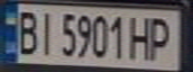0: (90, 11, 109, 58)
1: (109, 11, 130, 60)
5: (54, 9, 78, 57)
9: (72, 11, 93, 58)
B: (12, 7, 42, 56)
H: (127, 12, 157, 61)
I: (33, 8, 57, 56)
P: (145, 14, 178, 61)
